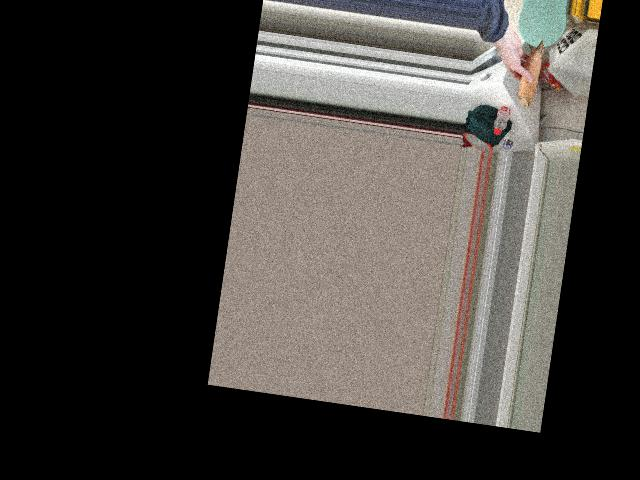sweet_potato: (514, 41, 541, 110)
